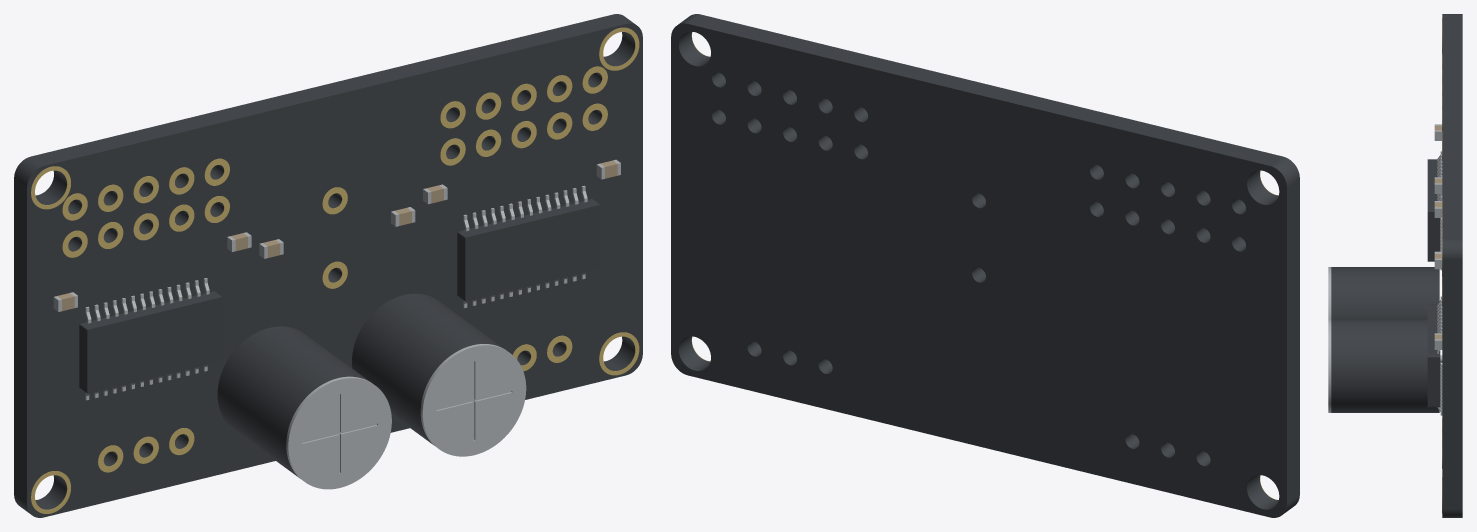
The model's file is simplefocmini_dual.glb.
The picture shows the model from 3 angles, left to right: view 1: azimuth 30°, elevation 25°; view 2: azimuth 150°, elevation 25°; view 3: azimuth 270°, elevation 25°; orthographic projection. The views are drawn at different scales.
Visible parts, largest first — view 1: pcb_0, ms8313_-1_package_0, ms8313_1_package_0, capacitor_-1_sleeve_0, capacitor_1_sleeve_0, capacitor_1_top_0, capacitor_-1_top_0; view 2: pcb_0; view 3: pcb_0, capacitor_1_sleeve_0, capacitor_-1_sleeve_0, ms8313_1_package_0, ms8313_-1_package_0, capacitor_1_top_0, capacitor_-1_top_0.
Boxes of the visible parts, x1,y1,x2,y2 form: pcb_0: [14, 14, 642, 517]; ms8313_-1_package_0: [79, 291, 223, 393]; ms8313_1_package_0: [457, 199, 600, 301]; capacitor_-1_sleeve_0: [217, 326, 369, 478]; capacitor_1_sleeve_0: [352, 293, 503, 445]; capacitor_1_top_0: [420, 344, 526, 456]; capacitor_-1_top_0: [286, 376, 391, 489]; pcb_0: [671, 14, 1299, 517]; pcb_0: [1442, 14, 1462, 517]; capacitor_1_sleeve_0: [1331, 318, 1439, 412]; capacitor_-1_sleeve_0: [1331, 267, 1439, 318]; ms8313_1_package_0: [1427, 304, 1440, 407]; ms8313_-1_package_0: [1427, 159, 1440, 261]; capacitor_1_top_0: [1328, 318, 1331, 412]; capacitor_-1_top_0: [1328, 267, 1331, 318].
Bounding box in the file's own units: 0.044 × 0.024 × 0.0105.
